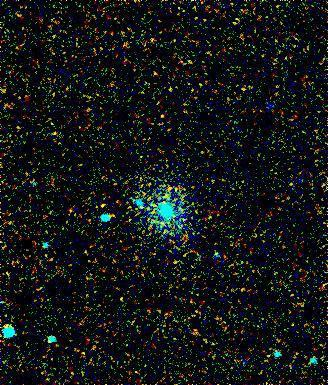star: (89, 192, 119, 222)
